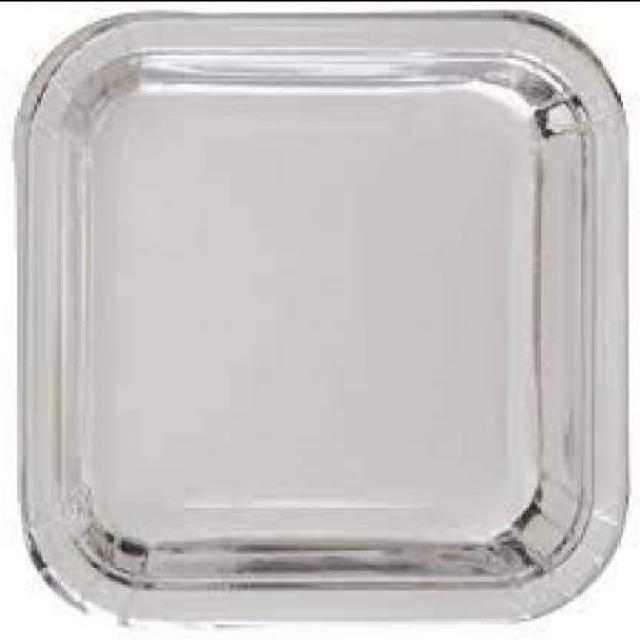METAL: (22, 5, 635, 618)
